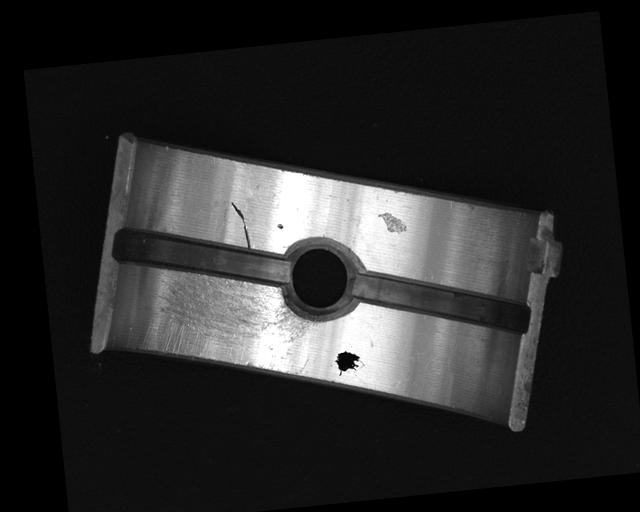blot: (333, 348, 366, 376)
bruise: (378, 210, 407, 236), (277, 221, 284, 230)
gap: (109, 210, 293, 303), (350, 255, 531, 349)
hole: (278, 235, 364, 323)
nick: (230, 199, 252, 250)
scratch: (130, 255, 321, 387)
